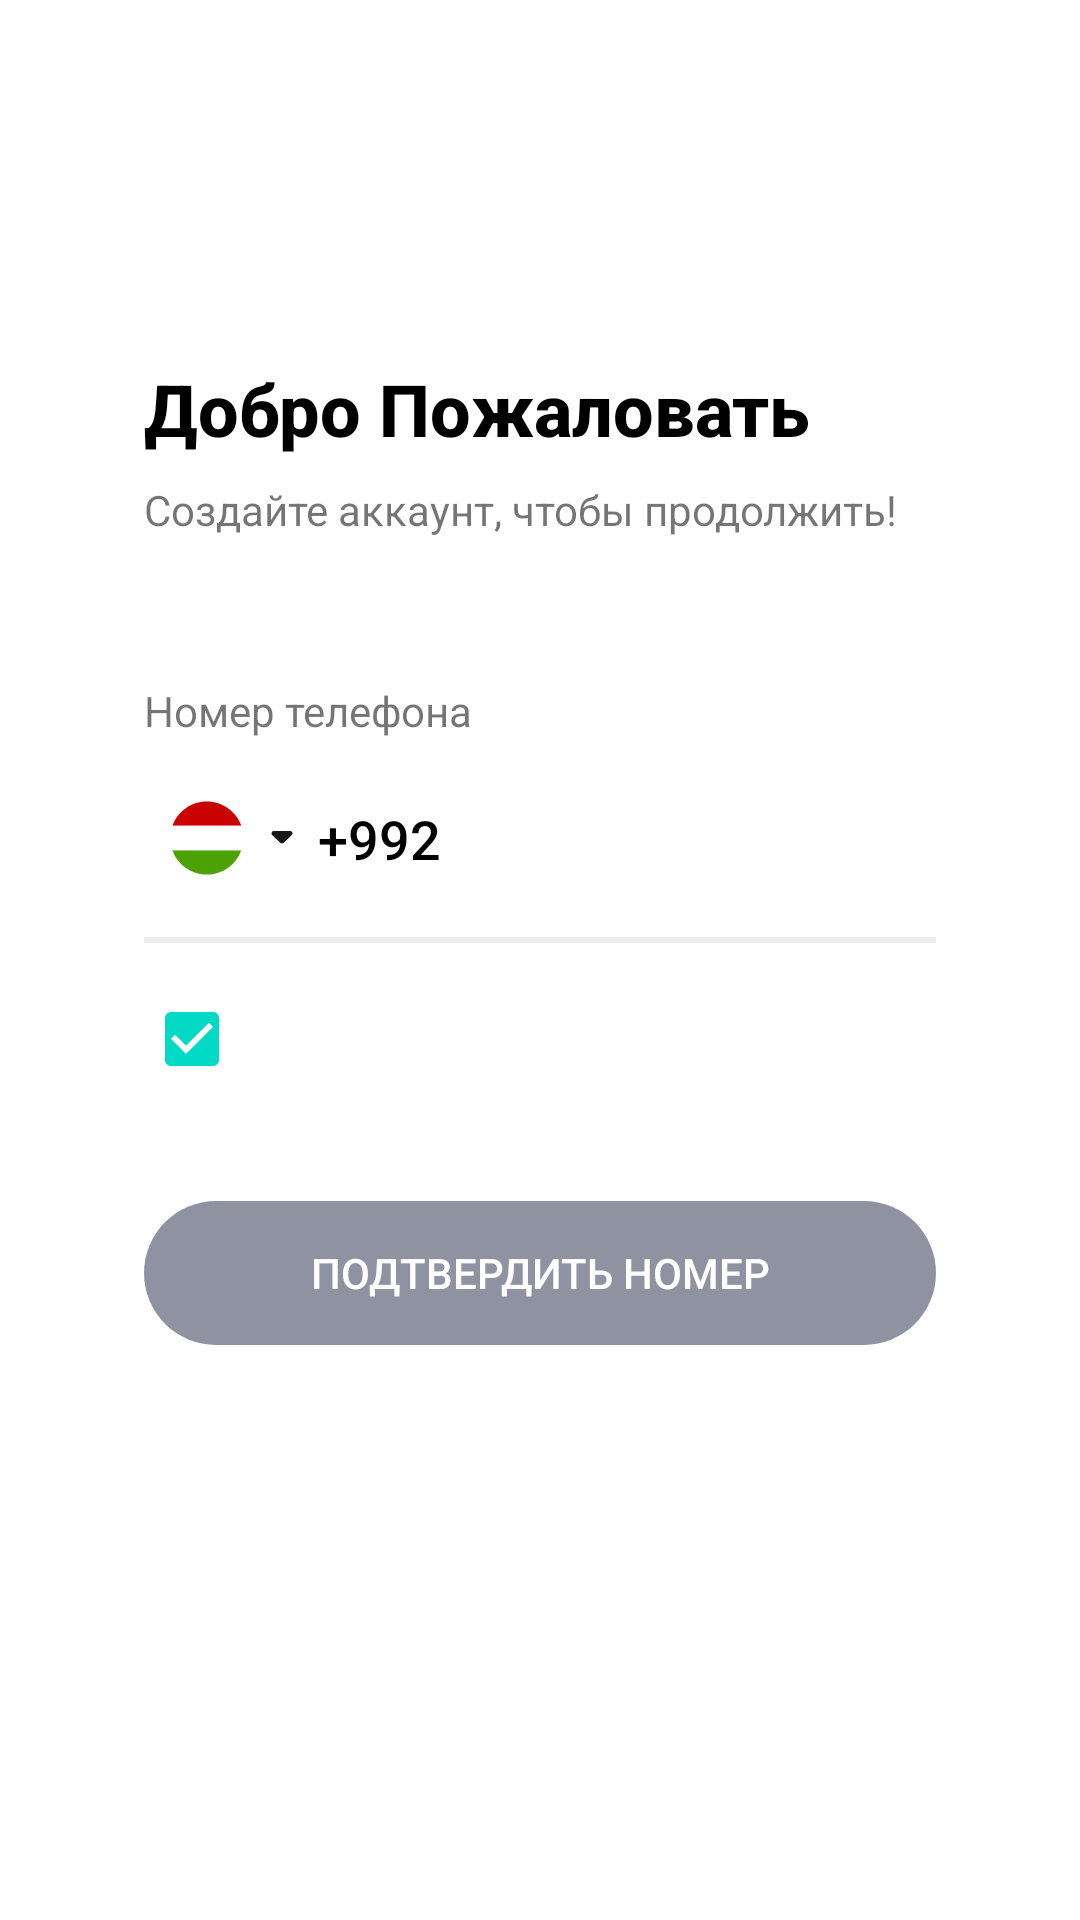

Icon click points for this 1080px x 1920px phone screenshot, format point (x, y):
flag: point (207, 838)
